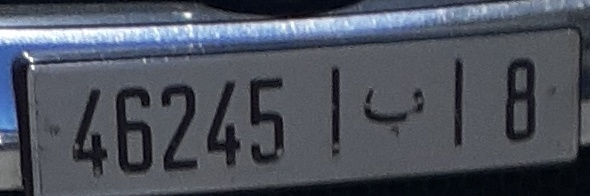2: (159, 81, 199, 178)
4: (62, 88, 113, 181), (204, 76, 246, 176)
5: (246, 68, 287, 171)
6: (114, 81, 158, 181)
8: (501, 53, 544, 147)
b: (363, 77, 424, 143)
